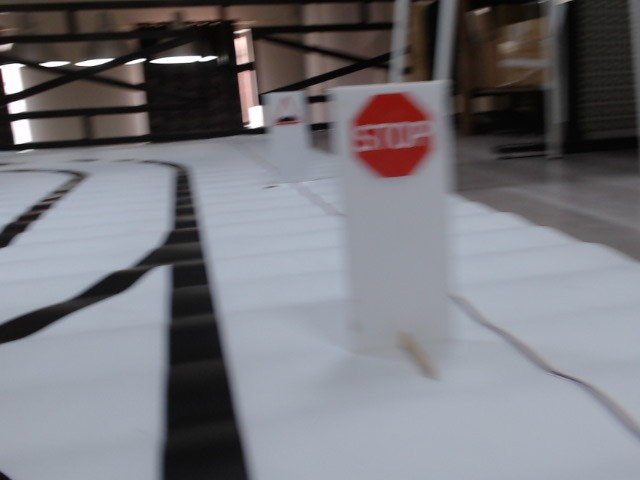Nerov: (272, 97, 303, 127)
Stop: (352, 91, 432, 179)
